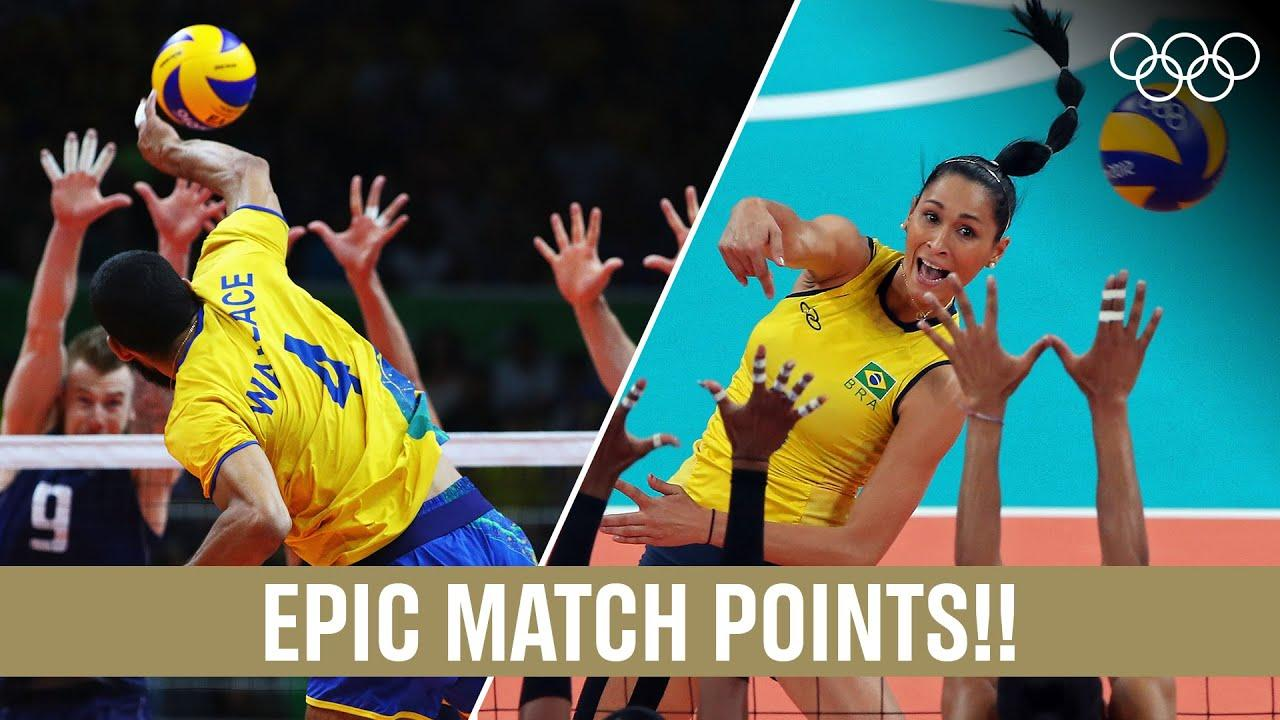ballon_volley: (1098, 80, 1230, 215), (150, 22, 257, 132)
